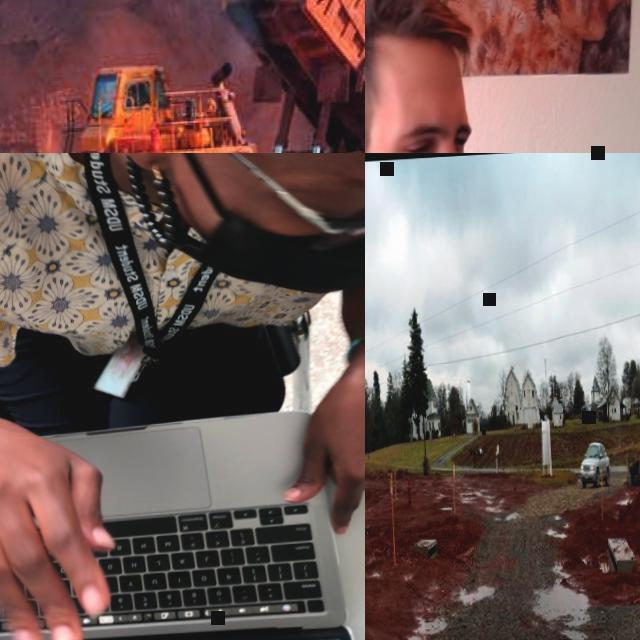machinery: (44, 0, 365, 153)
mask: (144, 153, 365, 306)
no_helmet: (365, 0, 465, 102)
no_vest: (0, 153, 312, 362)
person: (0, 153, 365, 640), (365, 0, 610, 153)
vehicle: (580, 438, 612, 486)
